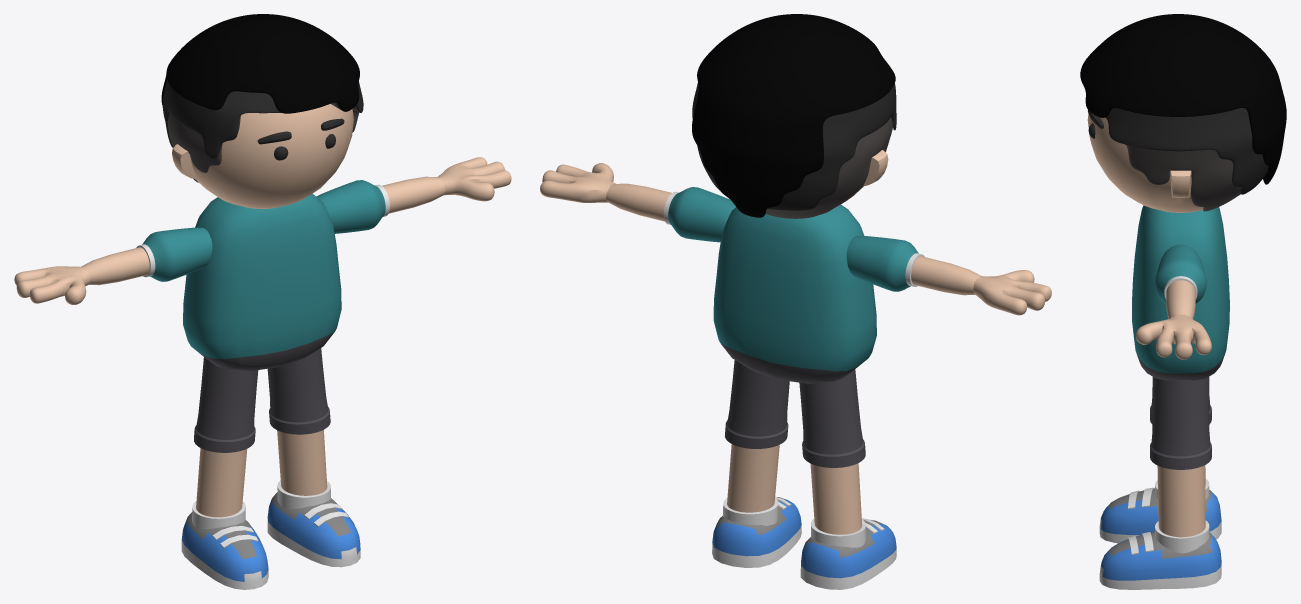
The model's file is Character.fbx.
The picture shows the model from 3 angles, left to right: view 1: azimuth 30°, elevation 25°; view 2: azimuth 150°, elevation 25°; view 3: azimuth 270°, elevation 25°; orthographic projection. The views are drawn at different scales.
Parts seen in each view (by area): view 1: Torzo2, Pelo, Piernas, Cabeza, Tenis, Brazo1, Brazo2; view 2: Pelo, Torzo2, Piernas, Tenis, Brazo1, Brazo2; view 3: Pelo, Torzo2, Piernas, Tenis, Brazo2, Cabeza.
Boxes of the visible parts, box(x1,y1,x2,y2) form: Torzo2: box(183, 193, 341, 371); Pelo: box(161, 14, 363, 182); Piernas: box(192, 348, 330, 529); Cabeza: box(172, 104, 353, 208); Tenis: box(181, 492, 360, 589); Brazo1: box(14, 227, 212, 304); Brazo2: box(316, 157, 511, 233); Pelo: box(692, 14, 896, 218); Torzo2: box(713, 205, 876, 383); Piernas: box(723, 360, 866, 547); Tenis: box(712, 496, 896, 589); Brazo1: box(846, 236, 1051, 315); Brazo2: box(540, 163, 735, 242); Pelo: box(1080, 14, 1286, 211); Torzo2: box(1132, 205, 1229, 380); Piernas: box(1150, 377, 1211, 553); Tenis: box(1099, 487, 1221, 589); Brazo2: box(1136, 244, 1211, 359); Cabeza: box(1087, 113, 1203, 212).
Size of the model in its own units: 316 by 327 by 115.
